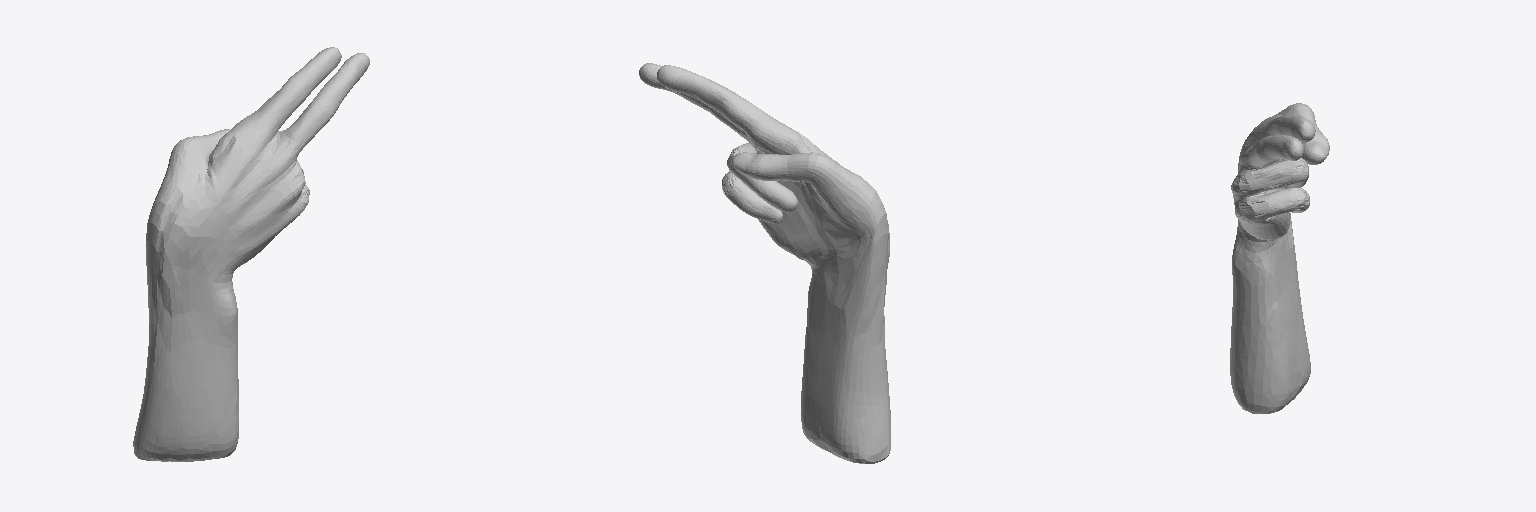
Rendered from mainh.obj.
The picture shows the model from 3 angles: view 1: azimuth 30°, elevation 25°; view 2: azimuth 150°, elevation 25°; view 3: azimuth 270°, elevation 25°; orthographic projection.
Parts seen in each view (by area): view 1: ZBrush_defualt_group; view 2: ZBrush_defualt_group; view 3: ZBrush_defualt_group.
Boxes of the visible parts, x1=… form: ZBrush_defualt_group: x1=133, y1=47, x2=369, y2=461; ZBrush_defualt_group: x1=639, y1=63, x2=890, y2=463; ZBrush_defualt_group: x1=1230, y1=103, x2=1329, y2=413.
Size of the model in its own units: 5.58 by 7.87 by 2.